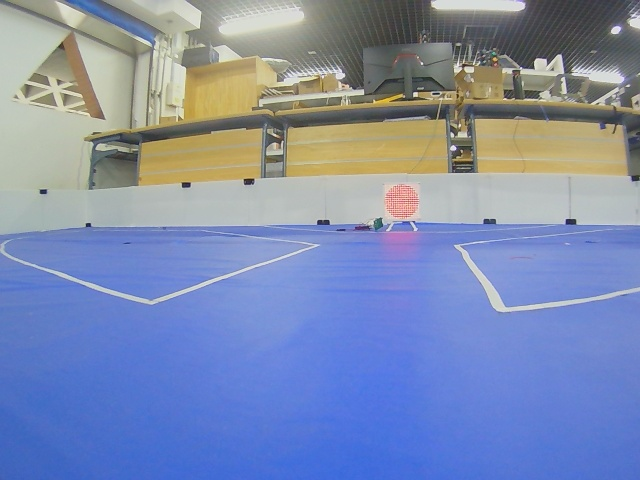red: (384, 183, 420, 221)
